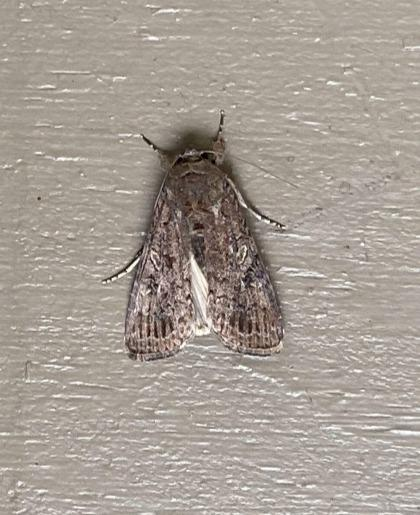army worm adult: (99, 110, 294, 370)
